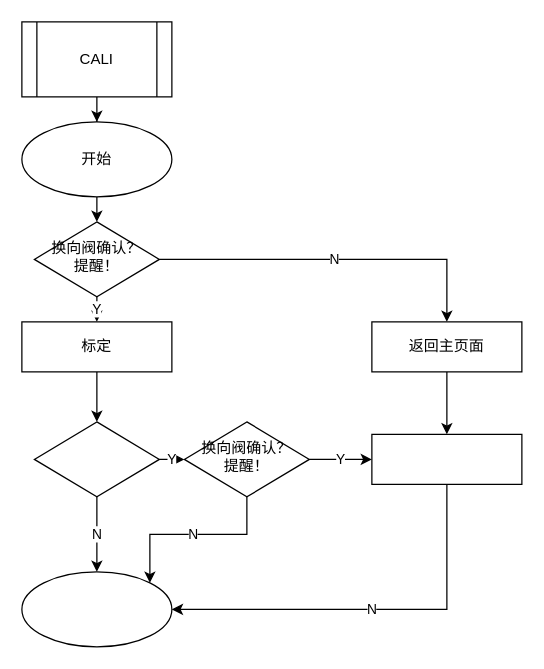
The diagram is 544 pixels wide and 669 high, and some of its shapes have lost their labels. The shapes that lost their labels are listed below. From the top down, each one's centre as x and y in pixels, then its label:
(x=96, y=459): 返回？
(x=446, y=458): 标定标志=0
(x=96, y=609): 结束
